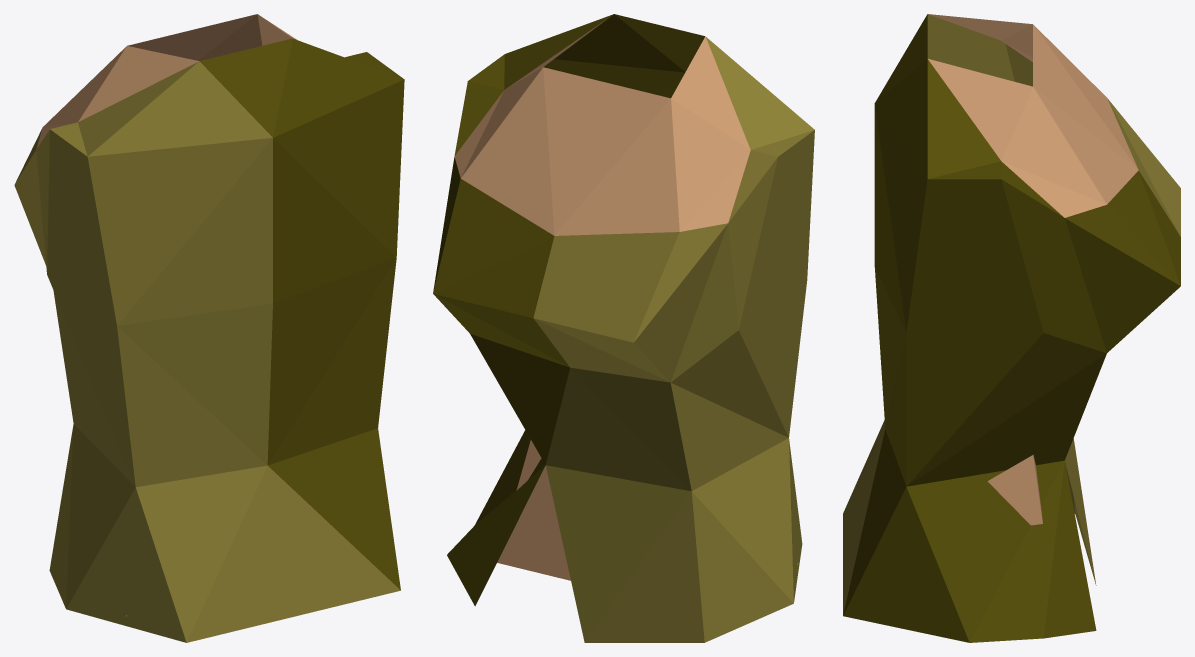
The picture shows the model from 3 angles, left to right: view 1: azimuth 30°, elevation 25°; view 2: azimuth 150°, elevation 25°; view 3: azimuth 270°, elevation 25°; orthographic projection. The views are drawn at different scales.
Size of the model in its own units: 0.2734 by 0.4531 by 0.25.
